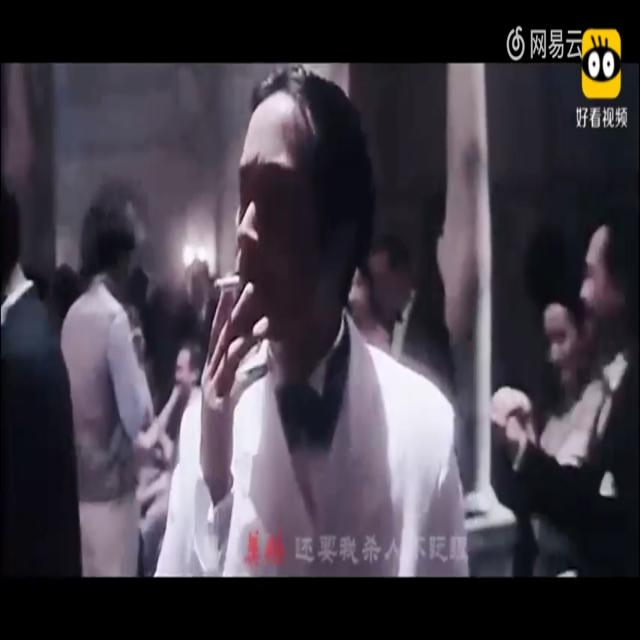smoke: (214, 273, 243, 292)
